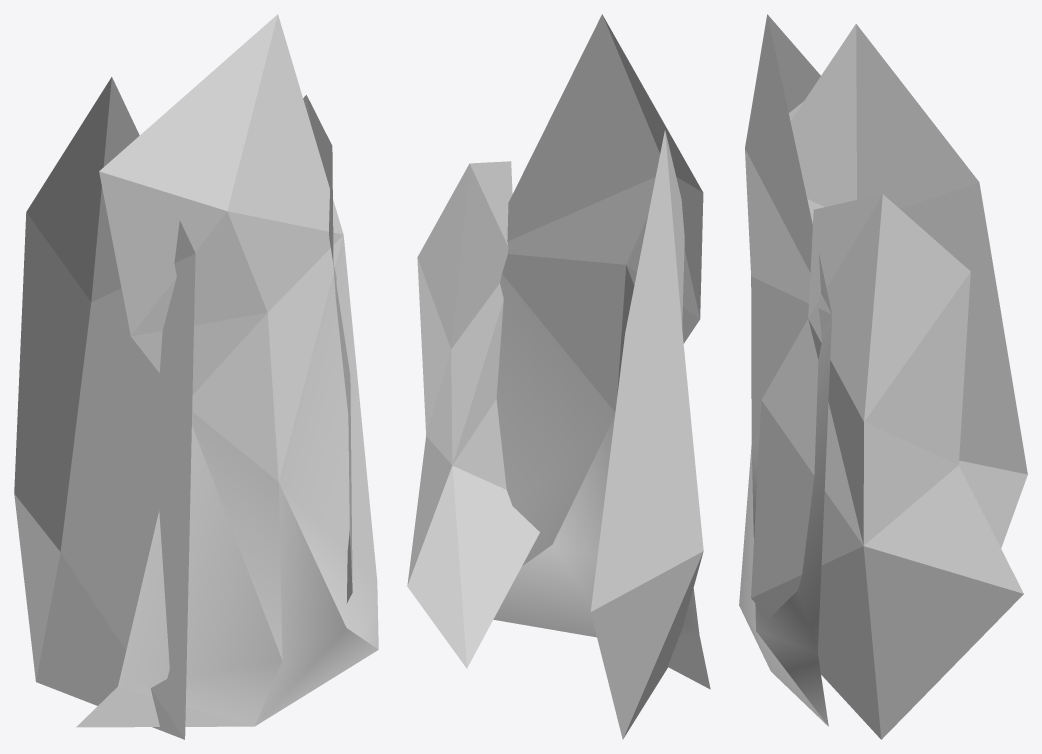
Rendered from SM_Env_Ivy_Pillar_02.glb.
The picture shows the model from 3 angles, left to right: view 1: azimuth 30°, elevation 25°; view 2: azimuth 150°, elevation 25°; view 3: azimuth 270°, elevation 25°; orthographic projection. The views are drawn at different scales.
Visible parts, largest first — view 1: SM_Env_Ivy_Pillar_02; view 2: SM_Env_Ivy_Pillar_02; view 3: SM_Env_Ivy_Pillar_02.
Part boxes in pixels (box(x1,y1,x2,y2)): SM_Env_Ivy_Pillar_02: box(14, 14, 378, 739); SM_Env_Ivy_Pillar_02: box(407, 14, 710, 739); SM_Env_Ivy_Pillar_02: box(739, 14, 1027, 739).
Bounding box in the file's own units: 0.5986 × 1.38 × 0.5301.
Materials: 1 (1 with a texture image).
